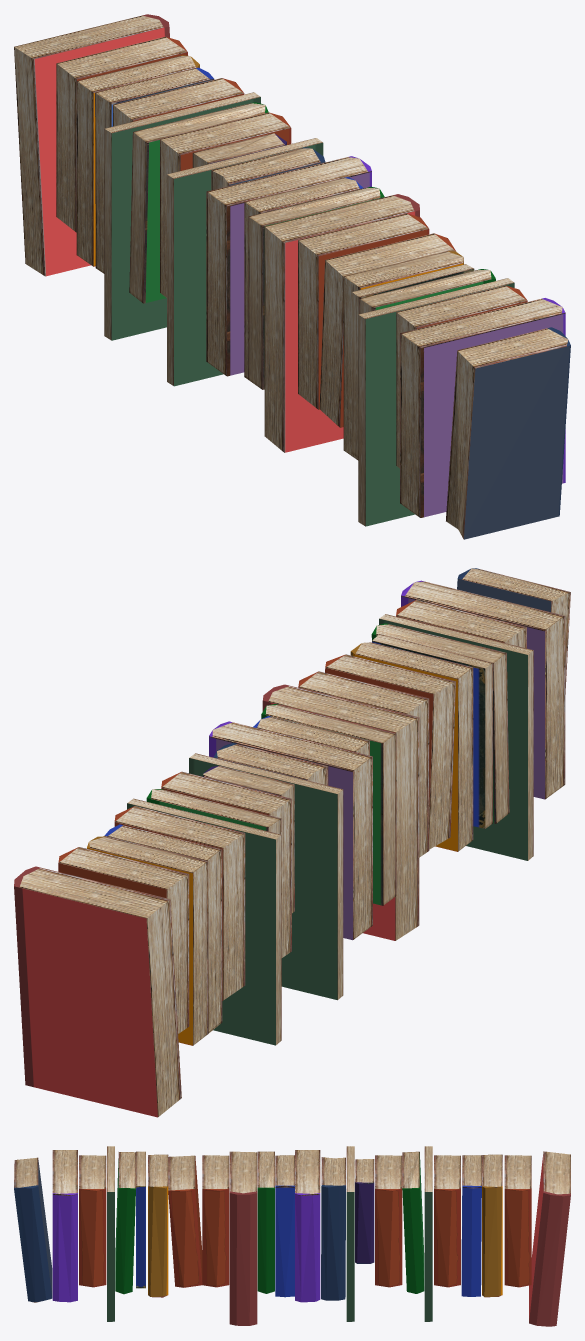
The model's file is bookss.fbx.
3 views of the same model, one above another, from view 1: azimuth 30°, elevation 25°; view 2: azimuth 150°, elevation 25°; view 3: azimuth 270°, elevation 25° (orthographic). The views are drawn at different scales.
Parts seen in each view (by area): view 1: SM_Book_Row; view 2: SM_Book_Row; view 3: SM_Book_Row.
Boxes of the visible parts, x1,y1,x2,y2 form: SM_Book_Row: [14, 14, 570, 539]; SM_Book_Row: [14, 568, 570, 1117]; SM_Book_Row: [14, 1146, 570, 1326].
Size of the model in its own units: 2289 by 2928 by 10966.
